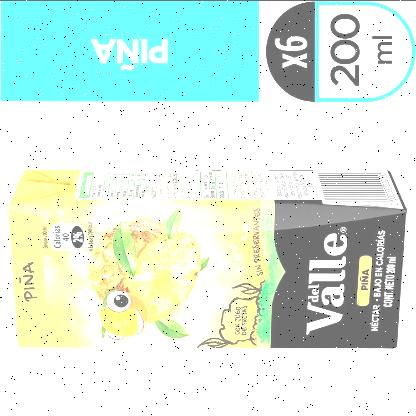Others: (5, 160, 409, 352)
